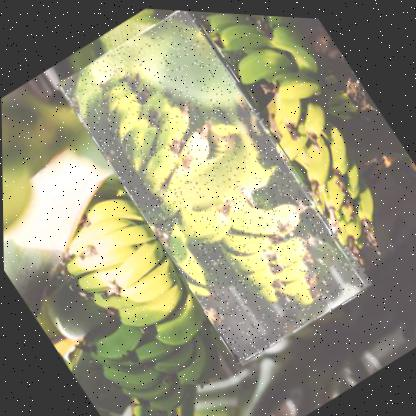banana: (53, 2, 374, 370)
